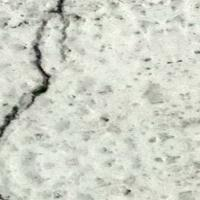crack: (0, 1, 74, 137)
